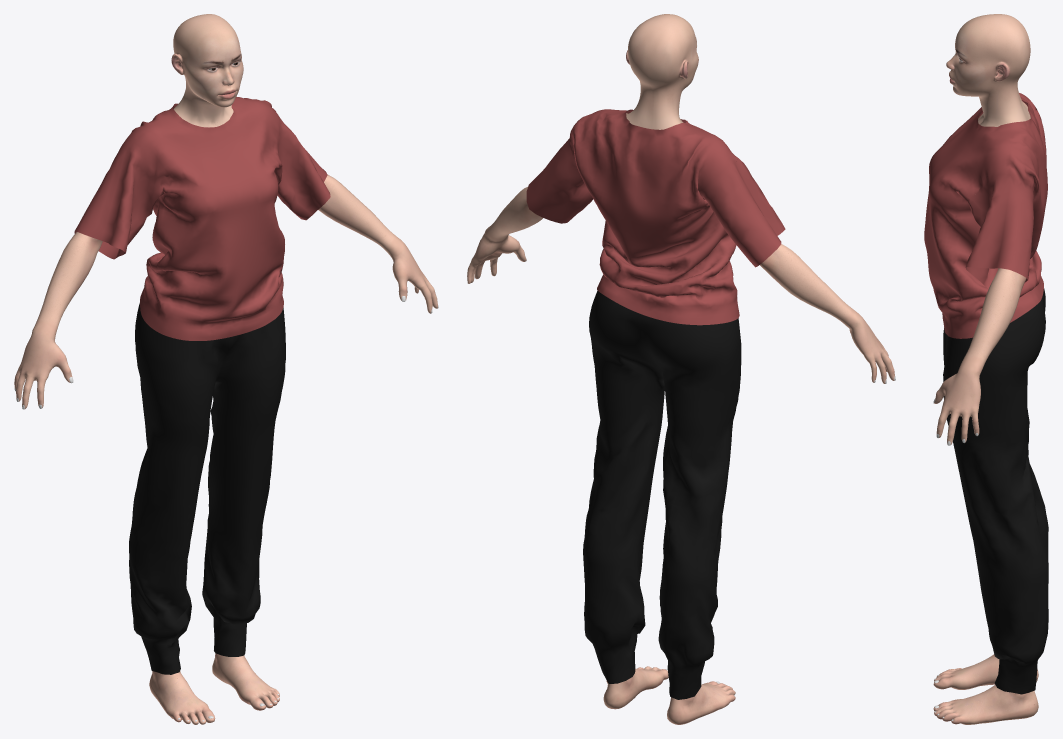
The model's file is shorts_female_maneking.glb.
3 views of the same model, side by side, from view 1: azimuth 30°, elevation 25°; view 2: azimuth 150°, elevation 25°; view 3: azimuth 270°, elevation 25° (orthographic).
Visible parts, largest first — view 1: pink tshirt _F, base_female; view 2: pink tshirt _F, base_female; view 3: pink tshirt _F, base_female.
Part boxes in pixels (x1,y1,x2,y2): pink tshirt _F: (74,97,330,674); base_female: (14,14,438,724); pink tshirt _F: (526,109,785,699); base_female: (467,14,895,724); pink tshirt _F: (924,93,1048,694); base_female: (933,14,1038,724).
Bounding box in the file's own units: 1.06 × 1.66 × 0.2737.
Materials: 11 (4 with a texture image).
